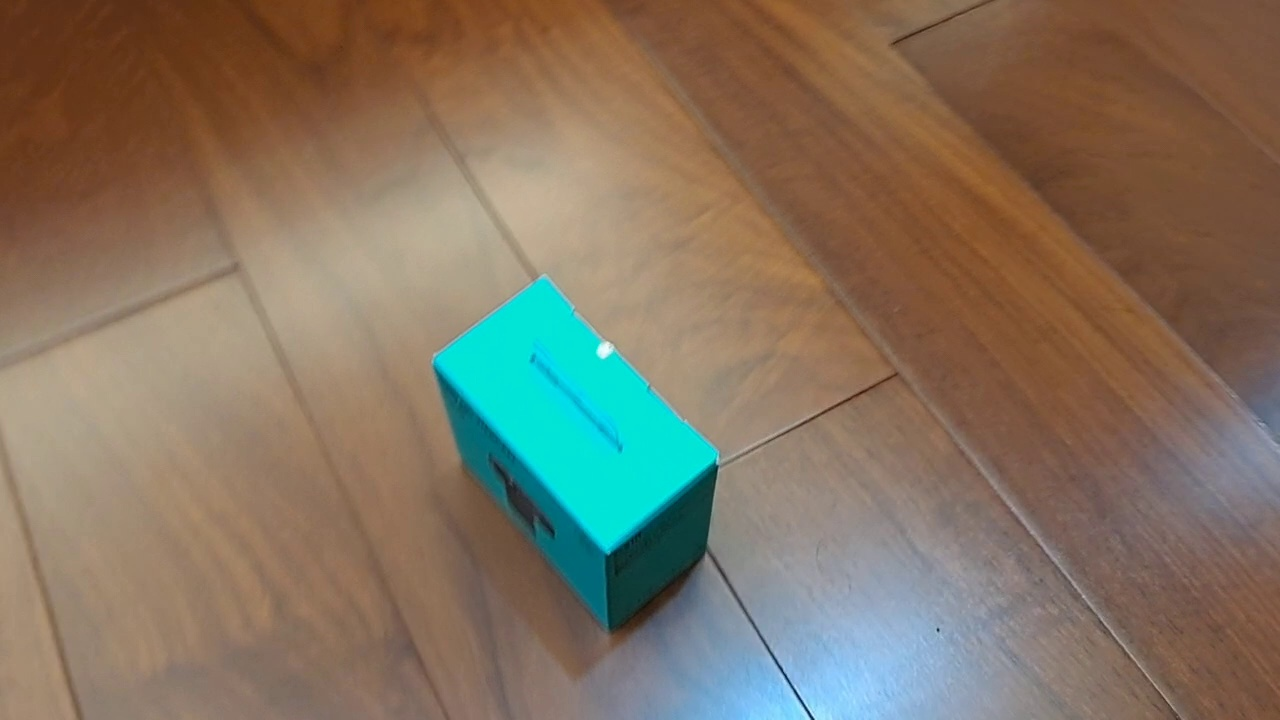webcam: (430, 272, 720, 634)
